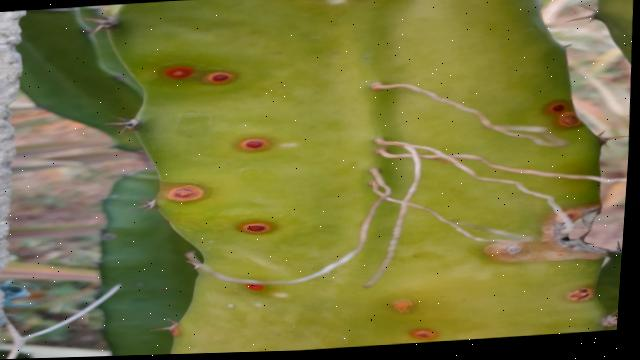stemcanker: (157, 61, 235, 86), (543, 100, 582, 130), (164, 181, 210, 205), (231, 218, 278, 238), (234, 134, 274, 153), (384, 297, 419, 315), (406, 326, 441, 343), (564, 287, 595, 303), (236, 278, 267, 293)
